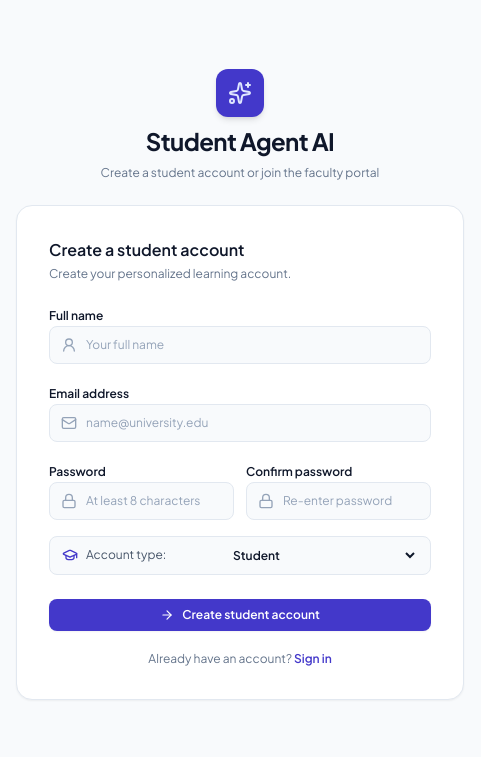
Test: student registration UI › does not submit faculty registration without an invite code
The image size is (481, 757).
Select "Faculty (invite code required)" in the dropdown labelled "Account type": (324, 555) top-left (229, 546), bottom-right (418, 564)
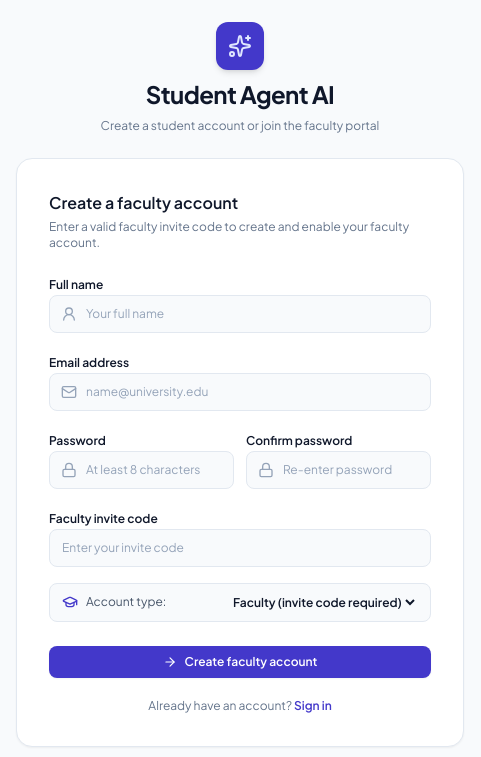
In the field labelled "Full name": (240, 314) top-left (49, 294), bottom-right (431, 332), type "Jordan Lee"
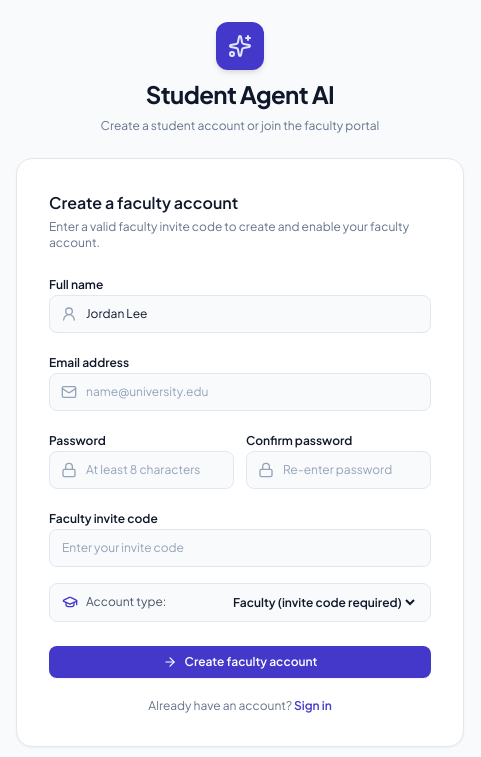
In the field labelled "Email address": (240, 392) top-left (49, 372), bottom-right (431, 410), type "jordan@example.edu"
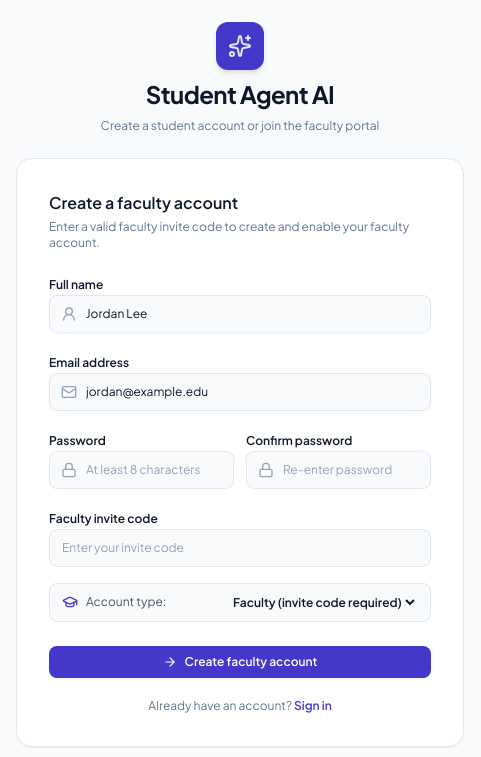
In the password field labelled "Password": (142, 470) top-left (49, 450), bottom-right (234, 488), type "secure-password"
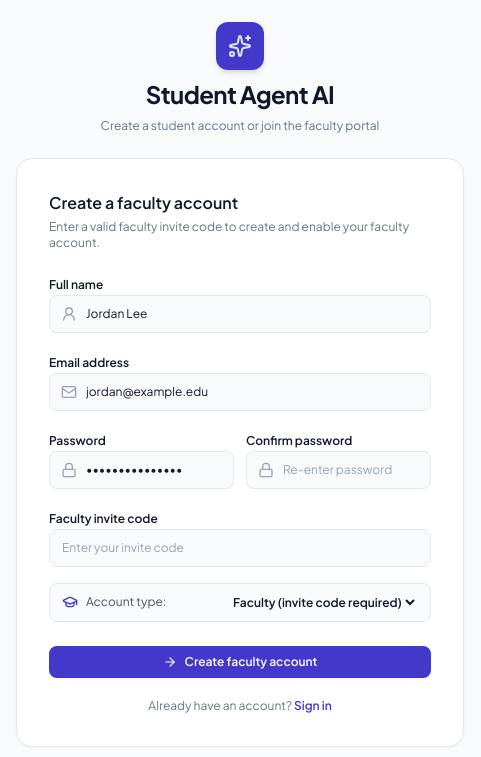
In the password field labelled "Confirm password": (338, 470) top-left (246, 450), bottom-right (431, 488), type "secure-password"
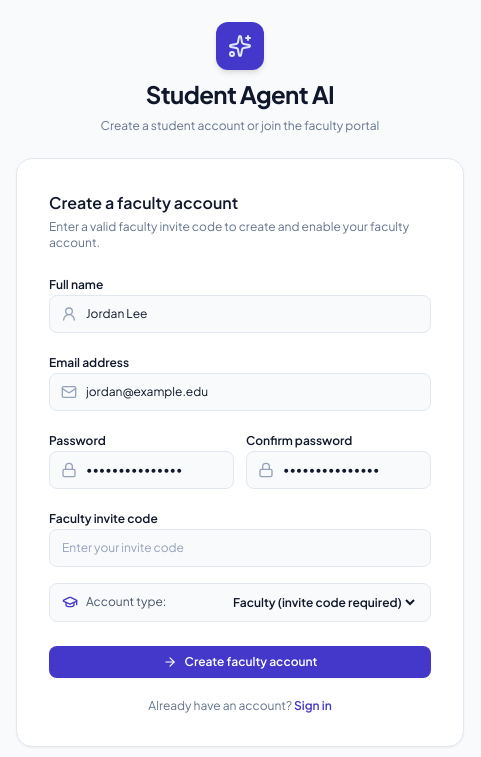
Submit the form named "Create faculty account", box top-left (49, 270), bottom-right (431, 678)
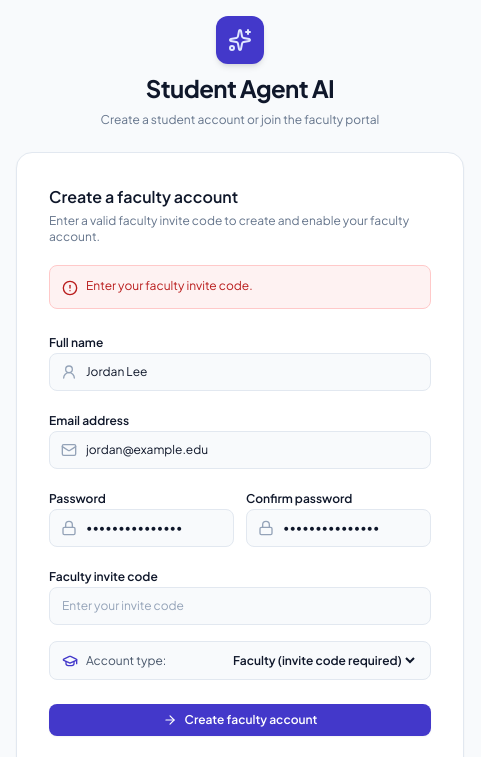
Now the message reads "Enter your faculty invite code.", box top-left (86, 278), bottom-right (253, 293)
